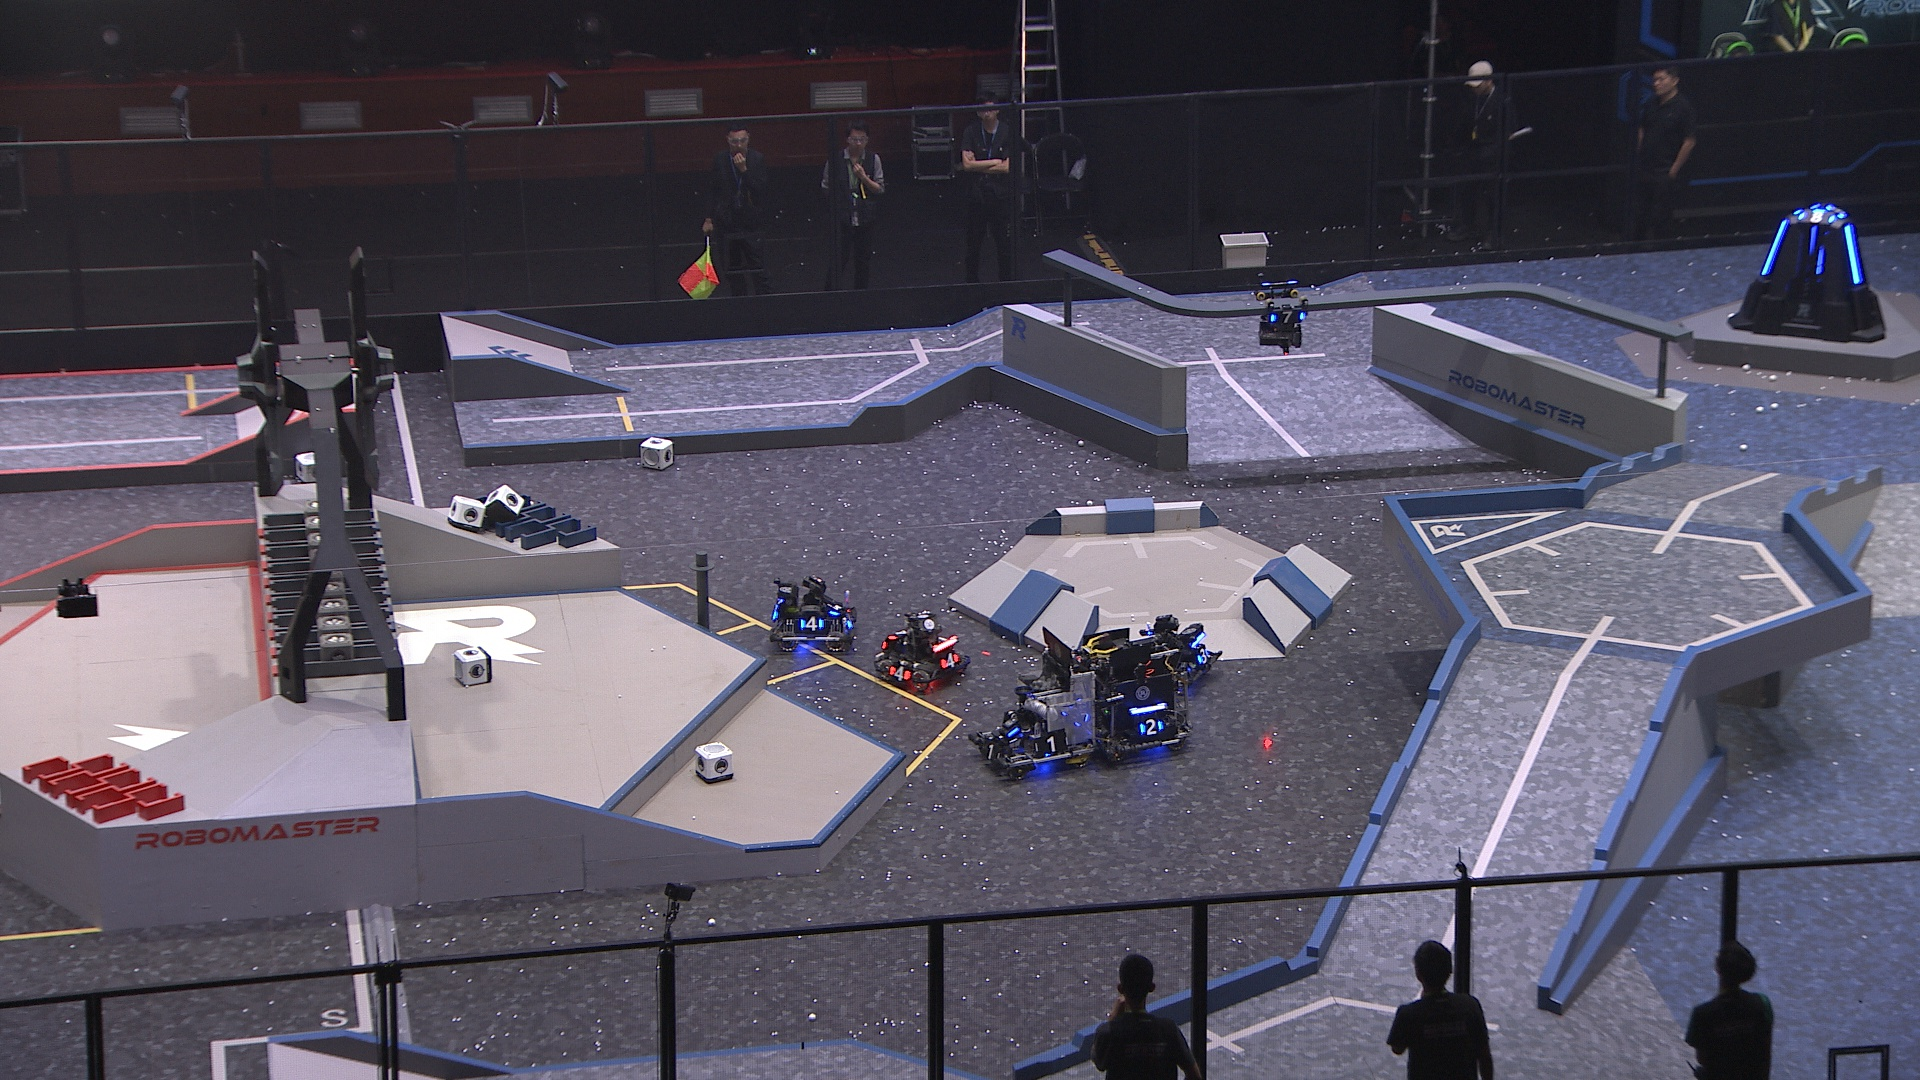armor: (1756, 218, 1789, 276), (1844, 224, 1863, 286), (1034, 732, 1069, 754), (975, 738, 1001, 765), (1795, 210, 1836, 225), (1269, 309, 1305, 324), (887, 624, 913, 644), (798, 616, 827, 632), (1808, 225, 1821, 258), (1138, 717, 1164, 733), (887, 665, 913, 680), (940, 651, 960, 670), (827, 595, 841, 618), (1196, 646, 1211, 665)
base: (1724, 200, 1890, 342)
car: (967, 628, 1098, 778), (1077, 626, 1189, 765), (872, 613, 972, 695), (766, 574, 856, 655), (1135, 613, 1218, 698)
watcher: (1253, 277, 1313, 353)
